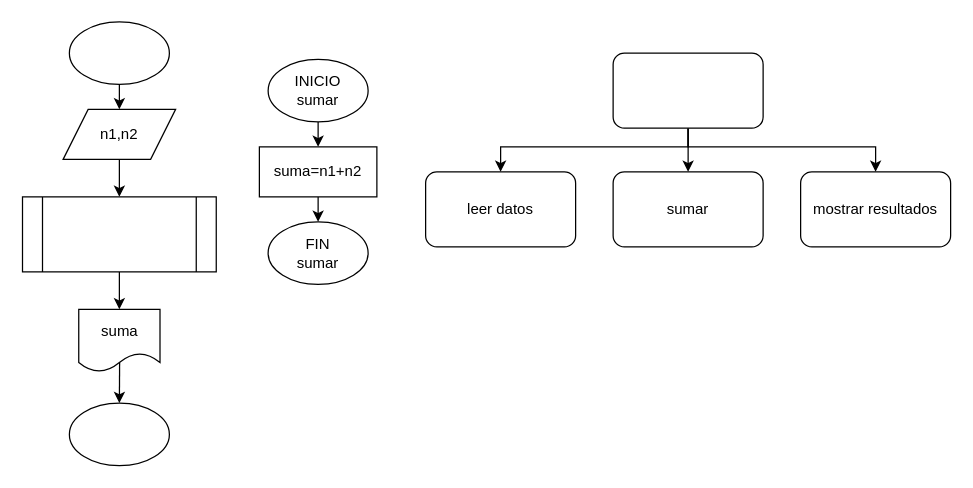
The diagram is 973 pixels wide and 488 high, and some of its shapes have lost their labels. Here are the shapes that lost their labels. From the top down, the centre of each, then its label:
At [118,52]: "INICIO main".
At [687,90]: "main".
At [118,234]: "suma=sumar(n1,n2)".
At [118,434]: "FIN main".
